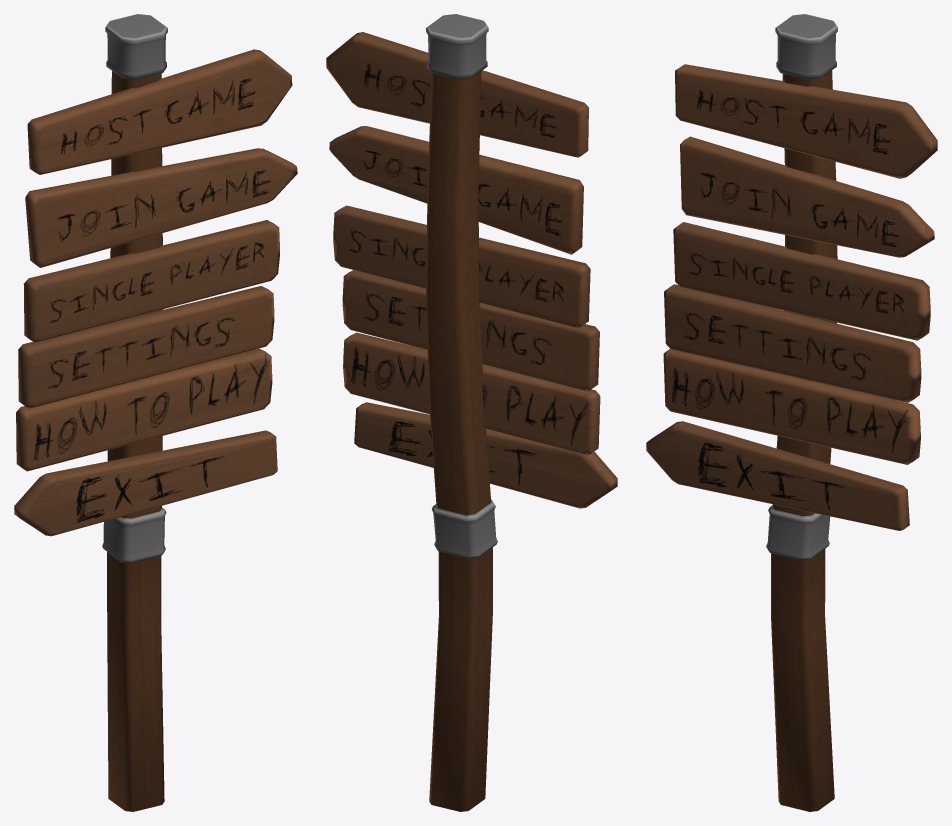
File: signpost.obj
The picture shows the model from 3 angles, left to right: view 1: azimuth 30°, elevation 25°; view 2: azimuth 150°, elevation 25°; view 3: azimuth 330°, elevation 25°; orthographic projection.
Bounding box in the file's own units: 9.48 × 25.01 × 2.21.
